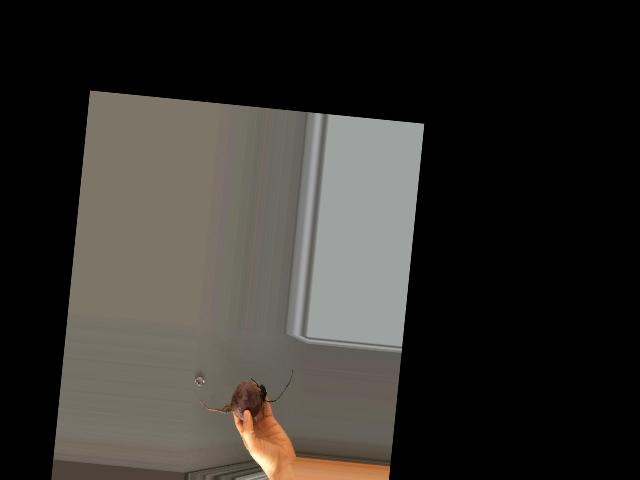beet: (197, 359, 293, 424)
